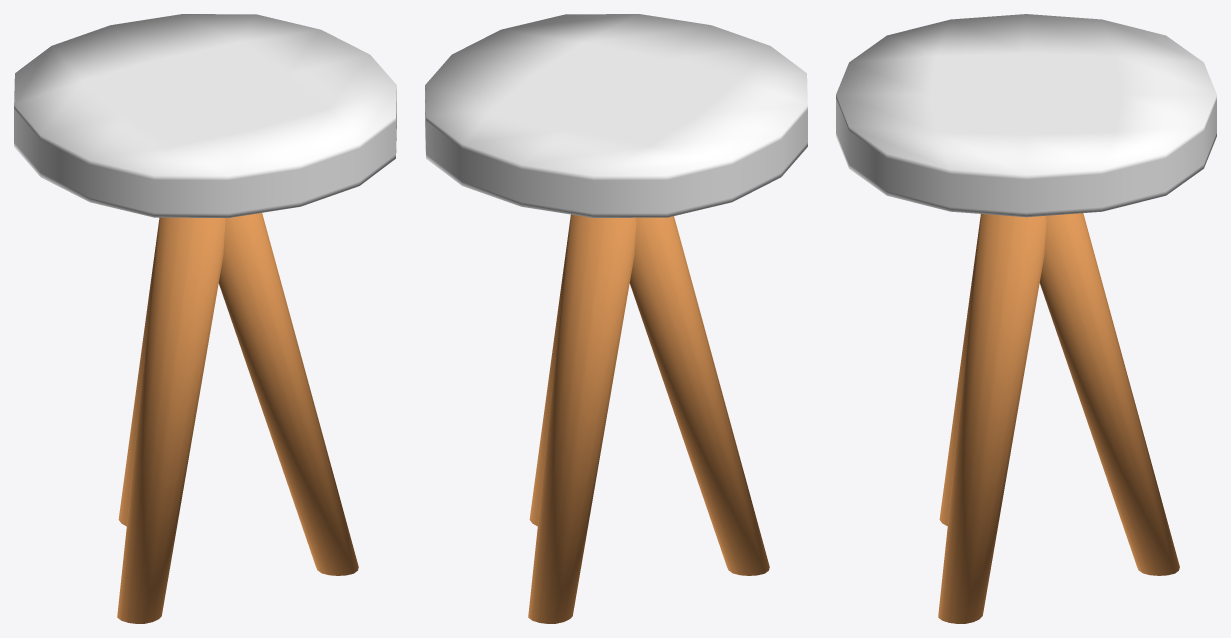
Rendered from stool.fbx.
3 renders of one model, left to right at view 1: azimuth 30°, elevation 25°; view 2: azimuth 150°, elevation 25°; view 3: azimuth 270°, elevation 25°, orthographic.
Parts seen in each view (by area): view 1: Cube.005; view 2: Cube.005; view 3: Cube.005.
Boxes of the visible parts, <box> form: Cube.005: <box>14,14,396,623</box>; Cube.005: <box>425,14,807,623</box>; Cube.005: <box>836,14,1216,623</box>.
Bounding box in the file's own units: 272 × 373 × 272.
